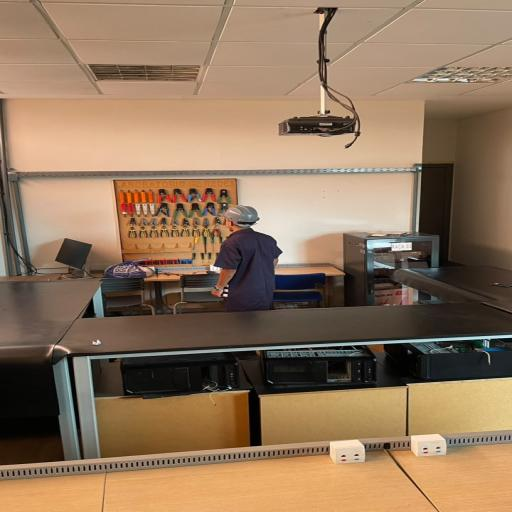CAPACETE: (222, 206, 260, 224)
